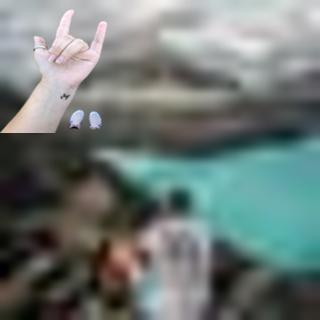ILY: (29, 5, 112, 88)
